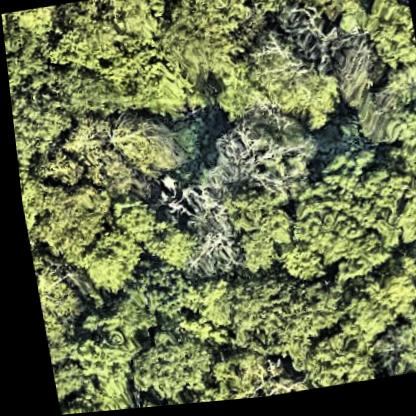tree-top: (289, 150, 416, 278), (194, 262, 336, 365), (148, 164, 242, 281), (209, 114, 312, 204), (58, 200, 150, 300), (45, 0, 159, 77), (21, 174, 112, 268), (152, 0, 249, 88), (115, 323, 207, 410), (247, 44, 335, 134), (352, 86, 416, 207), (217, 194, 291, 278), (25, 252, 78, 358), (117, 55, 197, 125), (282, 331, 366, 395), (104, 115, 181, 184), (342, 271, 416, 340), (8, 82, 71, 163), (47, 62, 124, 128), (359, 0, 416, 89), (70, 311, 136, 378), (202, 354, 283, 404), (122, 266, 191, 321), (2, 20, 55, 91), (134, 218, 194, 277), (210, 74, 273, 130), (233, 0, 344, 25), (36, 145, 85, 195), (279, 0, 373, 25), (81, 367, 132, 413), (42, 354, 81, 410), (388, 298, 416, 369), (48, 396, 95, 415)
